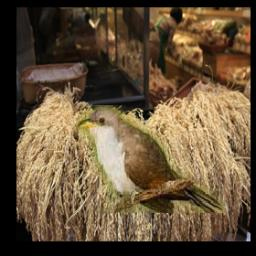Cuckoo: (77, 105, 224, 213)
